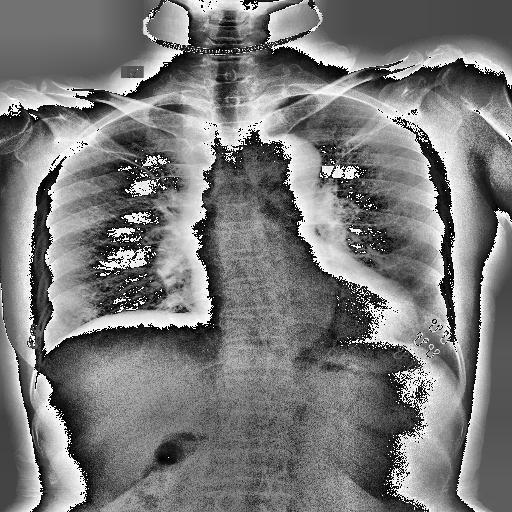0- Aortic enlargement: (238, 132, 325, 196), (260, 136, 320, 194), (269, 134, 322, 178)
3- Cardiomegaly: (188, 263, 418, 340), (193, 263, 425, 336), (192, 289, 418, 347)
